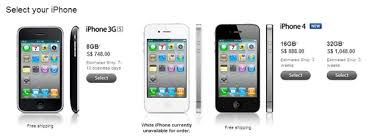iphone4: (142, 22, 191, 115), (17, 22, 66, 115), (212, 24, 261, 117)
